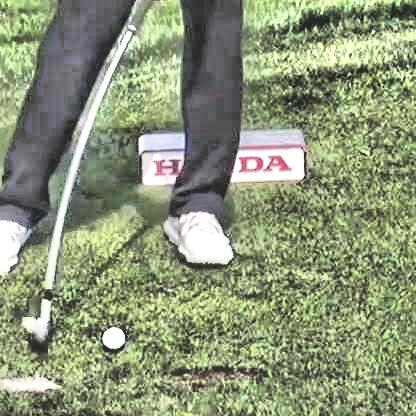golfball: (99, 324, 121, 349)
